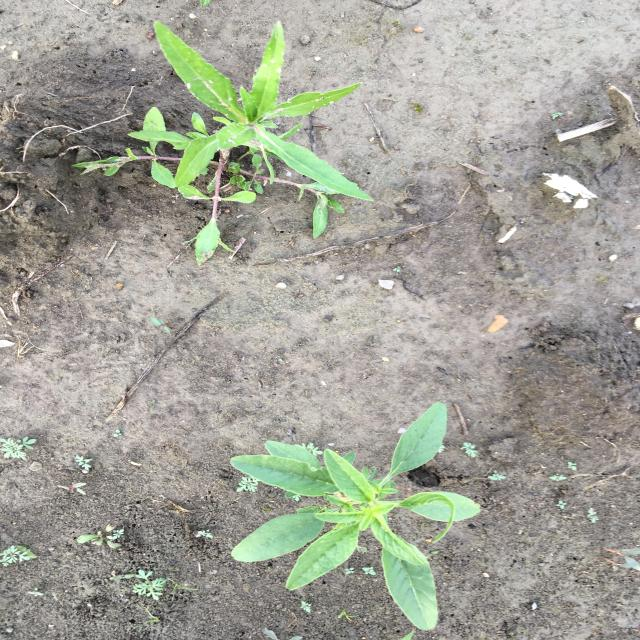Eclipta: (70, 19, 377, 268)
Waterhemp: (228, 399, 486, 631)
